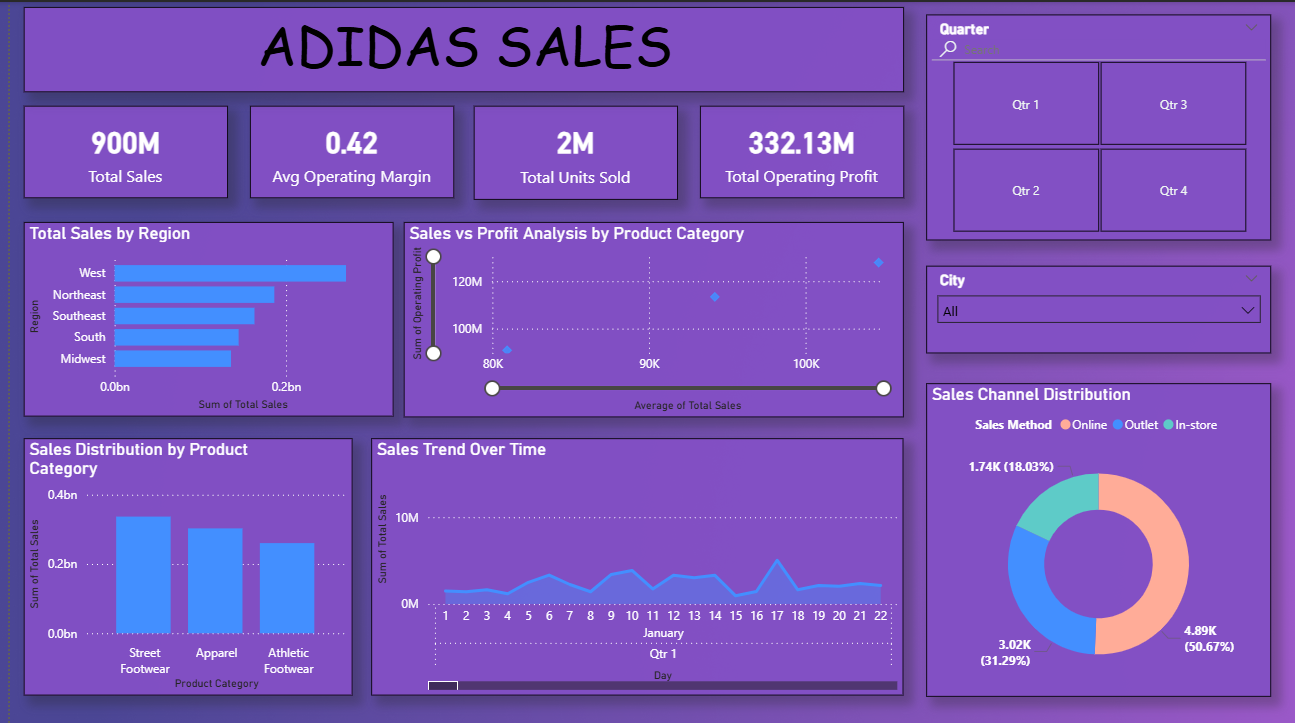

The page's visual inventory and layout, read from the dashboard file:
{"tool":"powerbi","page":{"name":"Page 1","canvas":[1280,720],"ordinal":0},"visuals":[{"type":"card","fields":{"Values":["Sum(Sales_details.Total Sales)"]},"box":[13.7,102.9,203.1,91.9],"z":0},{"type":"card","fields":{"Values":["Sum(Sales_details.Units Sold)"]},"box":[461.1,102.9,203.1,93.3],"z":1000},{"type":"card","fields":{"Values":["Sum(Sales_details.Operating Profit)"]},"box":[686.1,102.9,203.1,91.9],"z":2000},{"type":"card","fields":{"Values":["Avg(Sales_details.Operating Margin)"]},"box":[238.8,102.9,203.1,91.9],"z":3000},{"type":"clusteredBarChart","title":"Total Sales by Region","fields":{"Y":["Sum(Sales_details.Total Sales)"],"Category":["Sales_details.Region"]},"box":[13.7,219.6,367.8,193.5],"z":4000},{"type":"columnChart","title":"Sales Distribution by Product Category","fields":{"Category":["Sales_details.Product Category"],"Y":["Sum(Sales_details.Total Sales)"]},"box":[13.7,434.1,327.2,256.3],"z":5000},{"type":"lineChart","title":"Sales Trend Over Time","fields":{"Category":["Sales_details.Invoice Date.Variation.Date Hierarchy.Quarter","Sales_details.Invoice Date.Variation.Date Hierarchy.Month","Sales_details.Invoice Date.Variation.Date Hierarchy.Day"],"Y":["Sum(Sales_details.Total Sales)"]},"box":[359.5,434.1,529.9,256.3],"z":6000},{"type":"slicer","fields":{"Values":["Sales_details.Invoice Date.Variation.Date Hierarchy.Quarter"]},"box":[911.7,12.3,343.6,224.5],"z":7000},{"type":"scatterChart","title":"Sales vs Profit Analysis by Product Category","fields":{"X":["Avg(Sales_details.Total Sales)"],"Y":["Sum(Sales_details.Operating Profit)"],"Category":["Sales_details.Product Category"]},"box":[391.8,218.9,497.6,194.1],"z":8000},{"type":"donutChart","title":"Sales Channel Distribution","fields":{"Category":["Sales_details.Sales Method"],"Y":["CountNonNull(Sales_details.Product Category)"]},"box":[911.7,379.1,343.6,311.7],"z":9000},{"type":"textbox","title":"ADIDAS SALES","box":[13.5,4.9,876.1,84.7],"z":10000},{"type":"slicer","fields":{"Values":["Sales_details.City"]},"box":[911.7,262.6,343.6,87.1],"z":11000}]}

Visuals, with their boxes in screenshot pixels (x1, y1, x2, y2), scaled from the page's 1280x720 canvas onto the 1295x723 screenshot:
card - Sum(Sales_details.Total Sales): [14,103,219,196]
card - Sum(Sales_details.Units Sold): [467,103,672,197]
card - Sum(Sales_details.Operating Profit): [694,103,900,196]
card - Avg(Sales_details.Operating Margin): [242,103,447,196]
"Total Sales by Region" clusteredBarChart: [14,221,386,415]
"Sales Distribution by Product Category" columnChart: [14,436,345,693]
"Sales Trend Over Time" lineChart: [364,436,900,693]
slicer - Sales_details.Invoice Date.Variation.Date Hierarchy.Quarter: [922,12,1270,238]
"Sales vs Profit Analysis by Product Category" scatterChart: [396,220,900,415]
"Sales Channel Distribution" donutChart: [922,381,1270,694]
"ADIDAS SALES" textbox: [14,5,900,90]
slicer - Sales_details.City: [922,264,1270,351]
